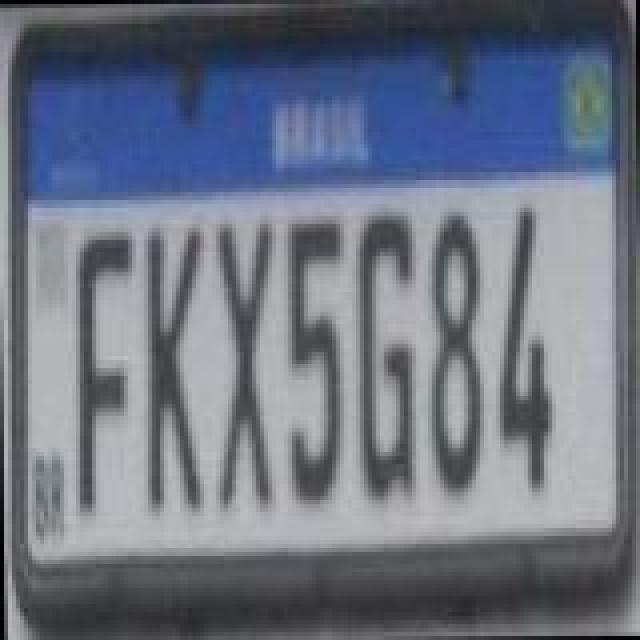4: (496, 198, 560, 490)
5: (284, 212, 348, 508)
8: (426, 204, 486, 500)
F: (72, 226, 136, 510)
G: (352, 208, 416, 504)
K: (144, 218, 208, 518)
X: (216, 220, 280, 516)
